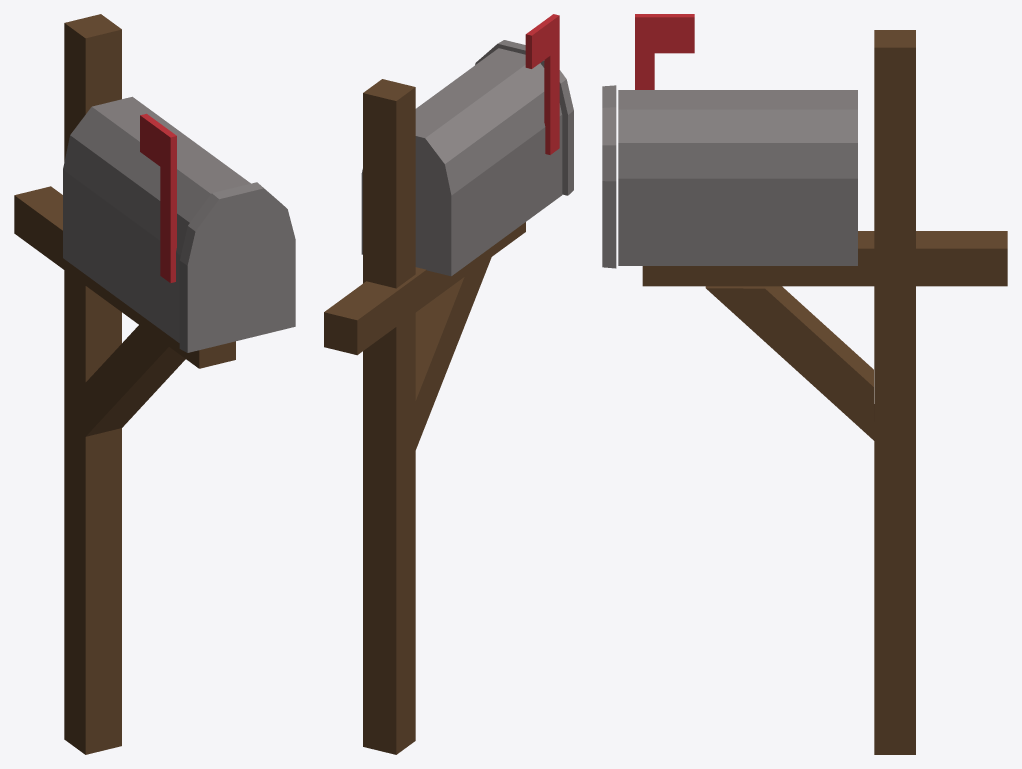
Rendered from props-mail-box.glb.
3 renders of one model, left to right at view 1: azimuth 30°, elevation 25°; view 2: azimuth 150°, elevation 25°; view 3: azimuth 270°, elevation 25°, orthographic. The views are drawn at different scales.
Visible parts, largest first — view 1: mail-box; view 2: mail-box; view 3: mail-box.
Boxes of the visible parts, bbox=[...] form: mail-box: bbox=[14, 14, 295, 754]; mail-box: bbox=[324, 14, 573, 754]; mail-box: bbox=[602, 14, 1007, 754].
Size of the model in its own units: 0.2391 by 1.5 by 0.7773.
